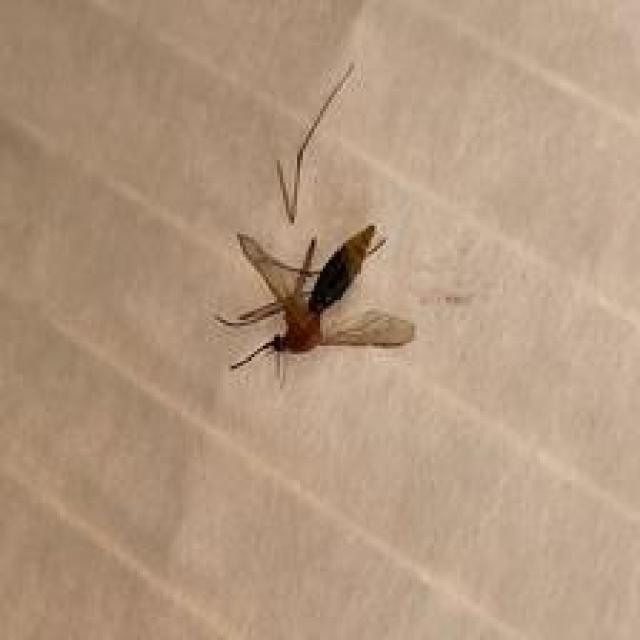Culex: (213, 223, 416, 386)
